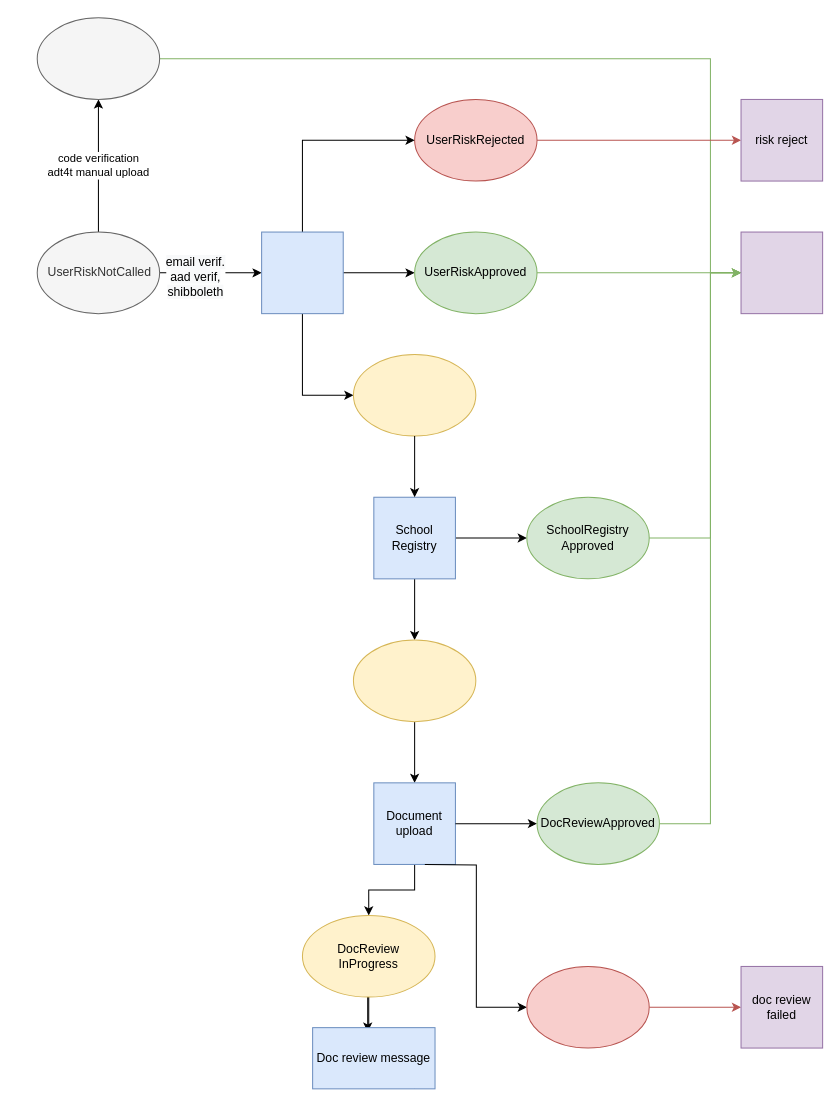
The diagram is 840 pixels wide and 1115 high, and some of its shapes have lost their labels. Here are the shapes that lost their labels. From the top down, the centre of each, then its label:
(x=98, y=58): SheerIDOutOfScope
(x=302, y=272): User Risk
(x=781, y=272): proceed to signup
(x=414, y=394): UserRiskChallenge
(x=414, y=680): DocReviewNeeded
(x=587, y=1006): DocReviewRejected
